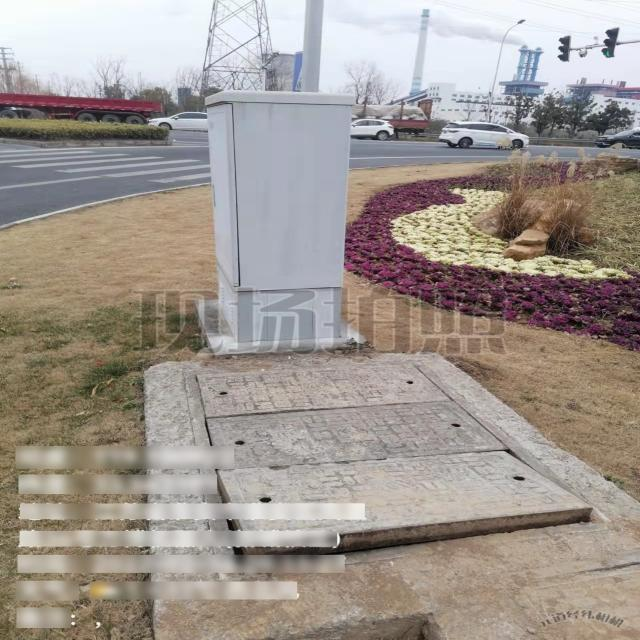Faulty: (183, 358, 612, 574)
